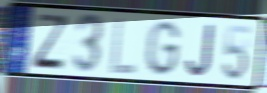3: (71, 11, 105, 77)
5: (222, 23, 254, 82)
G: (143, 19, 182, 78)
J: (185, 23, 215, 79)
L: (108, 15, 138, 76)
Z: (31, 12, 70, 72)
